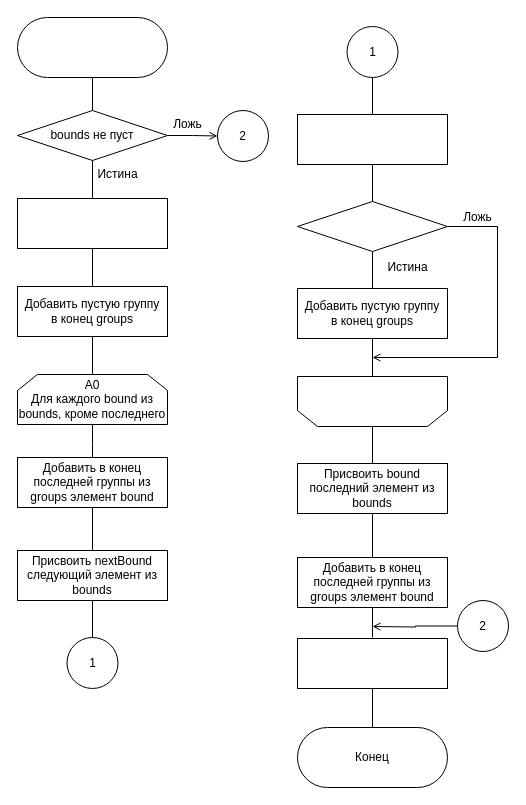
The diagram is 526 pixels wide and 805 high, and some of its shapes have lost their labels. Each missing label, with the centre of its shape:
А0: the point at 372,401
Вернуть groups: the point at 372,663
Вычислить гориз. расстояние между nexBound и bound: the point at 372,139
Начало: the point at 92,47
Присвоить thresh минимальное значение отступа по горизонтали: the point at 92,223
Расстояние больше thresh: the point at 372,226
